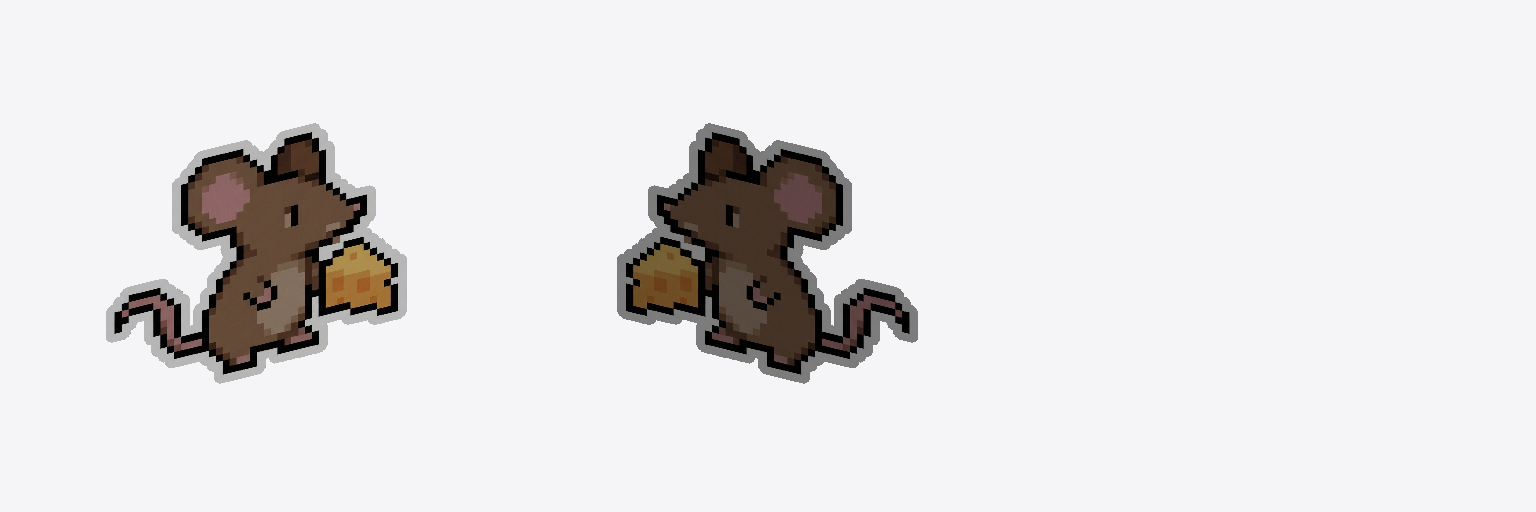
3 views of the same model, side by side, from view 1: azimuth 30°, elevation 25°; view 2: azimuth 150°, elevation 25°; view 3: azimuth 270°, elevation 25° (orthographic).
Visible parts, largest first — view 1: player; view 2: player; view 3: none.
Part boxes in pixels (left/top/right/bottom): player: left=106, top=123, right=406, bottom=383; player: left=617, top=123, right=917, bottom=383.
Bounding box in the file's own units: 1.12 × 1 × 0.
1 materials, 1 textured.